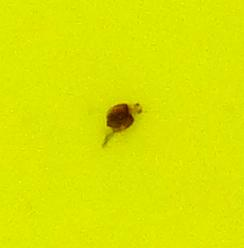Coleoptera: (100, 100, 144, 148)
